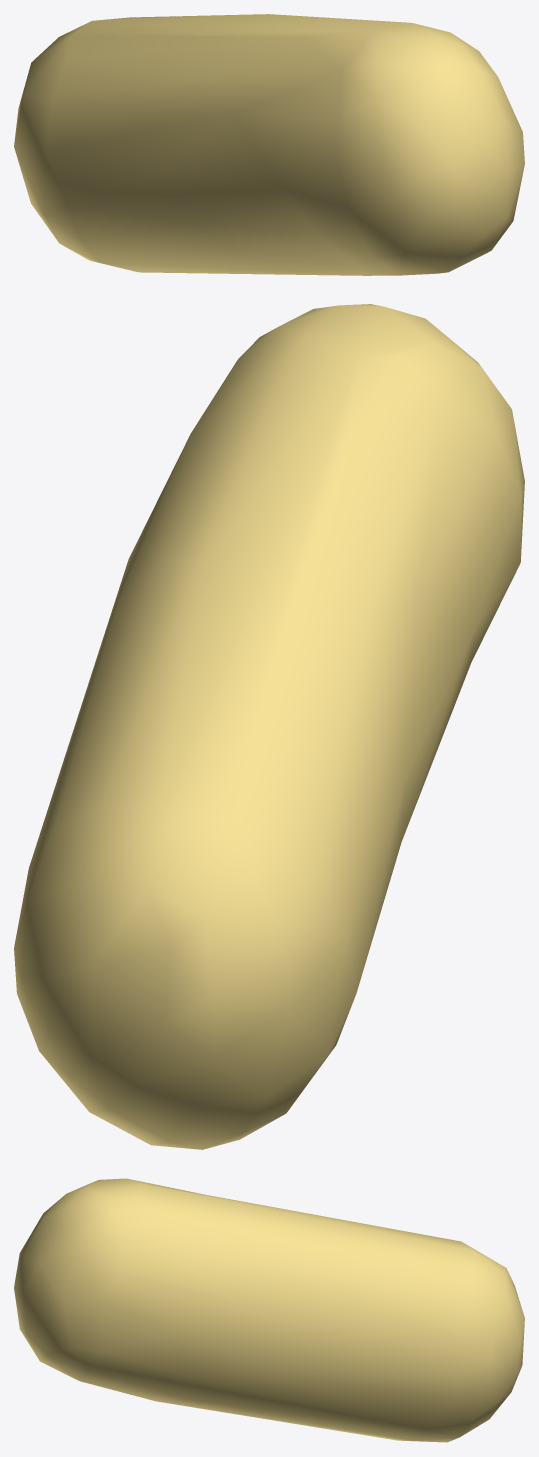
Rendered from fma65424_fj3980.glb.
The picture shows the model from 3 angles, top to bottom: view 1: azimuth 30°, elevation 25°; view 2: azimuth 150°, elevation 25°; view 3: azimuth 270°, elevation 25°; orthographic projection. The views are drawn at different scales.
Parts seen in each view (by area): view 1: FMA65424_FJ3980; view 2: FMA65424_FJ3980; view 3: FMA65424_FJ3980.
Boxes of the visible parts, x1,y1,x2,y2 form: FMA65424_FJ3980: (14,14,524,275); FMA65424_FJ3980: (14,304,524,1149); FMA65424_FJ3980: (14,1178,524,1442).
Bounding box in the file's own units: 0.00402 × 0.00492 × 0.00798.
